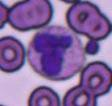N: (27, 24, 84, 80)
